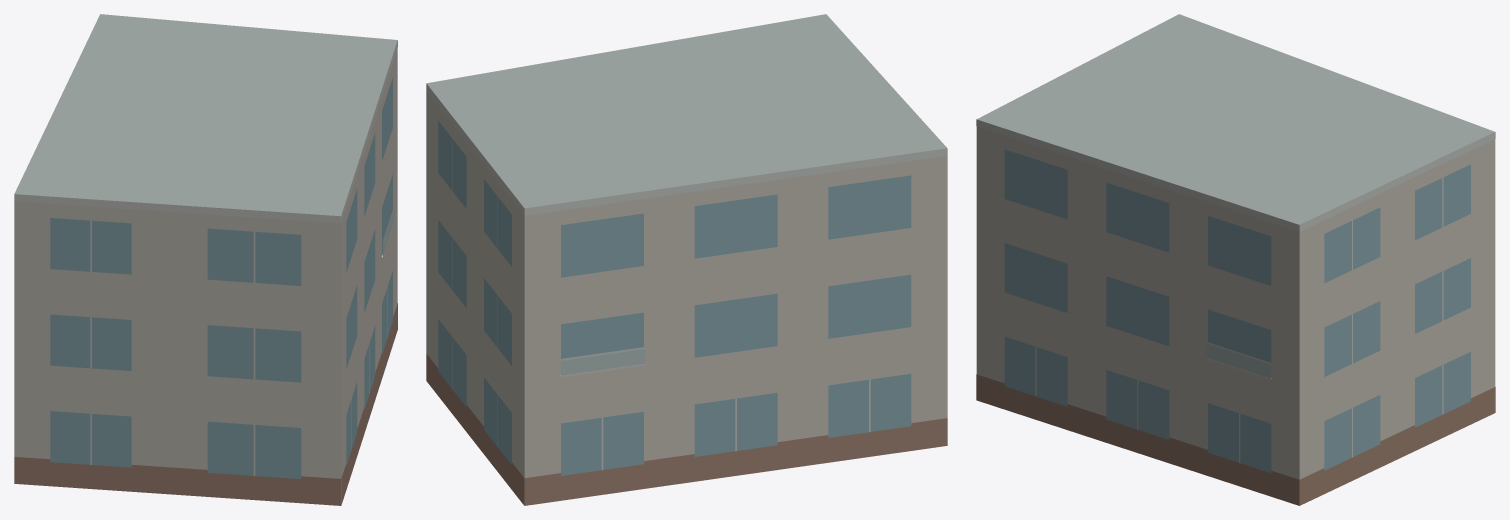
The model's file is survey-upis-32629231.glb.
3 renders of one model, left to right at view 1: azimuth 30°, elevation 25°; view 2: azimuth 150°, elevation 25°; view 3: azimuth 270°, elevation 25°, orthographic. The views are drawn at different scales.
Parts seen in each view (by area): view 1: survey-upis-32629231.tmp; view 2: survey-upis-32629231.tmp; view 3: survey-upis-32629231.tmp.
Boxes of the visible parts, x1,y1,x2,y2 form: survey-upis-32629231.tmp: (14,14,397,505); survey-upis-32629231.tmp: (426,14,947,505); survey-upis-32629231.tmp: (976,14,1495,505).
Bounding box in the file's own units: 15.78 × 9.8 × 16.41.
